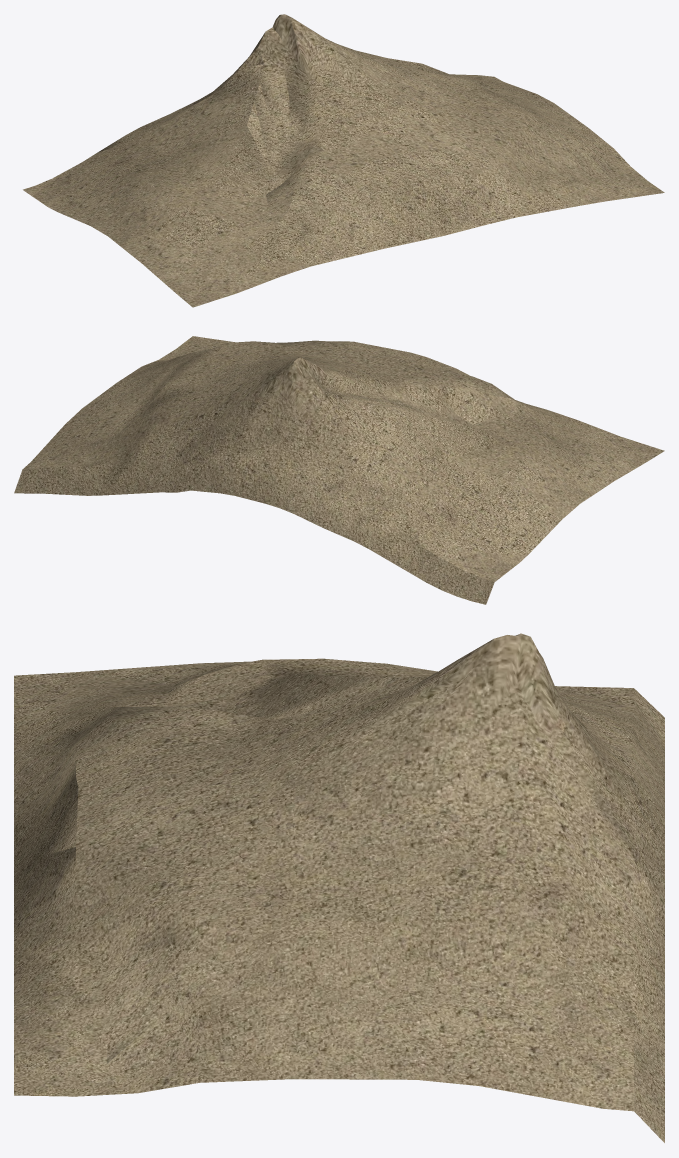
Rendered from tw2_5_dun_addon_01_28-transformed.glb.
The picture shows the model from 3 angles, top to bottom: view 1: azimuth 30°, elevation 25°; view 2: azimuth 150°, elevation 25°; view 3: azimuth 270°, elevation 25°; orthographic projection. The views are drawn at different scales.
Parts seen in each view (by area): view 1: 5_DUN_ADDONS_01_28; view 2: 5_DUN_ADDONS_01_28; view 3: 5_DUN_ADDONS_01_28.
Boxes of the visible parts, box(x1,y1,x2,y2) form: 5_DUN_ADDONS_01_28: box(23, 14, 664, 307); 5_DUN_ADDONS_01_28: box(14, 336, 664, 604); 5_DUN_ADDONS_01_28: box(14, 633, 664, 1142).
Size of the model in its own units: 8 by 2.63 by 5.25.
Materials: 1 (1 with a texture image).
